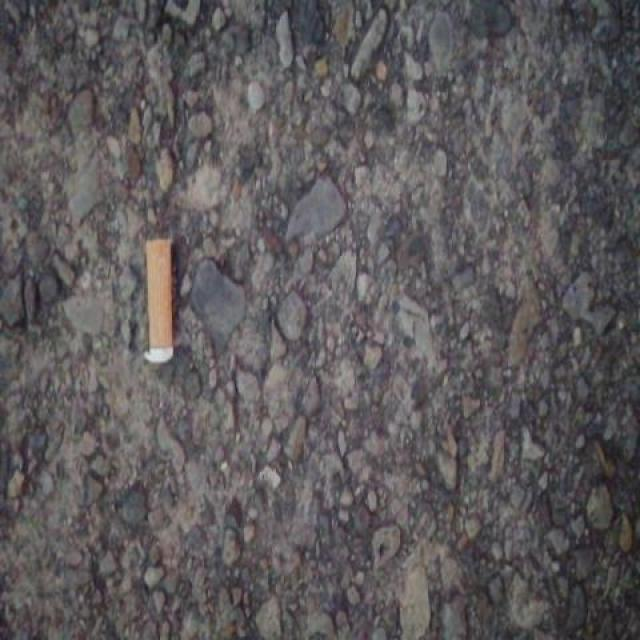non-organic waste: (143, 235, 177, 366)
